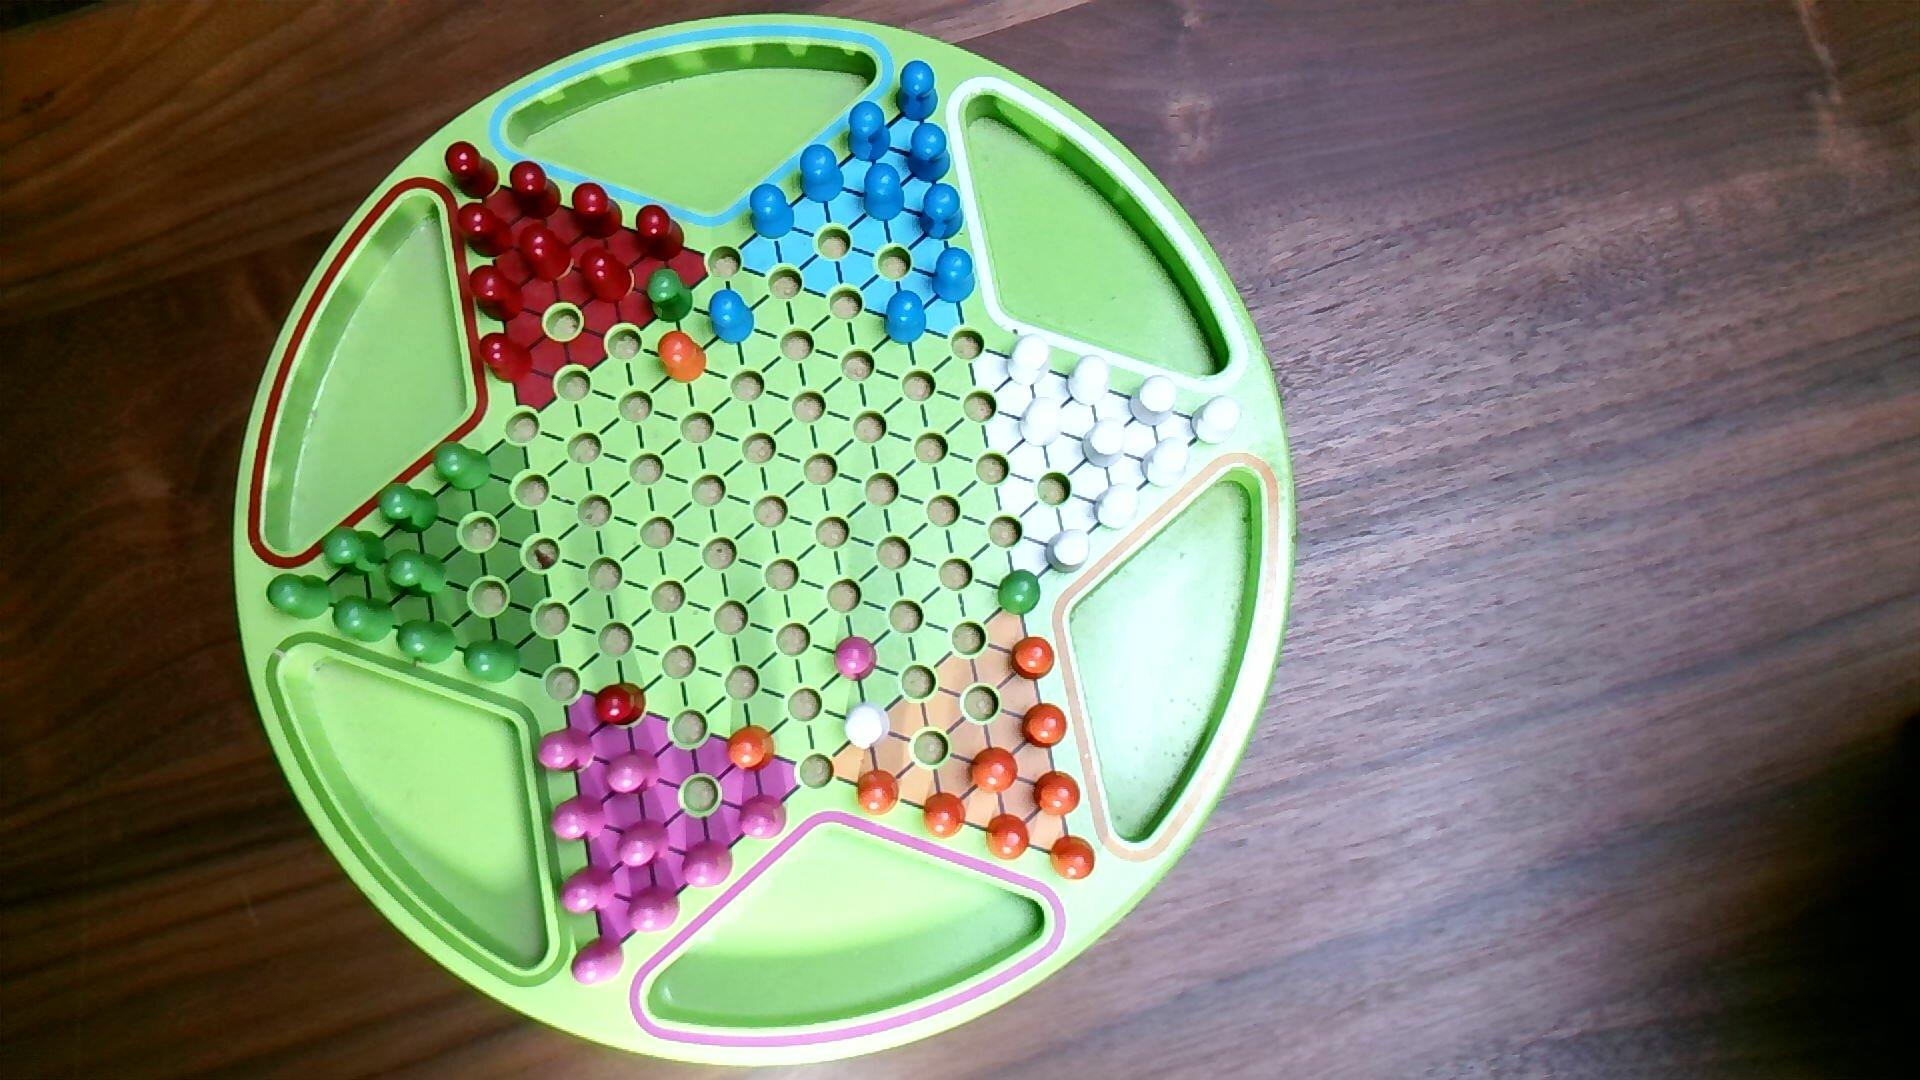B: (847, 98, 894, 165), (930, 244, 978, 309), (905, 120, 953, 185), (799, 141, 847, 207), (861, 160, 909, 225), (918, 181, 967, 244), (894, 59, 942, 124), (707, 287, 757, 348), (749, 181, 798, 243), (882, 289, 928, 347)
G: (375, 480, 442, 538), (320, 524, 389, 580), (382, 547, 451, 601), (431, 439, 495, 495), (331, 593, 397, 646), (266, 572, 335, 622), (396, 617, 462, 667), (463, 637, 526, 687), (645, 266, 696, 324), (996, 568, 1044, 618)
O: (655, 328, 709, 385), (724, 724, 778, 775), (967, 745, 1021, 796), (1033, 767, 1083, 820), (1048, 833, 1098, 884), (920, 790, 969, 841), (1021, 702, 1069, 752), (1009, 634, 1058, 684), (985, 812, 1033, 864), (856, 767, 902, 819)
R: (465, 262, 527, 326), (454, 200, 516, 261), (517, 222, 575, 285), (578, 244, 636, 306), (477, 330, 537, 386), (444, 141, 501, 200), (510, 160, 564, 222), (571, 182, 625, 243), (636, 203, 687, 265), (593, 680, 647, 731)
R2: (549, 791, 609, 847), (559, 864, 618, 916), (535, 725, 597, 775), (616, 818, 673, 872), (604, 746, 663, 798), (680, 837, 736, 891), (571, 934, 626, 986), (626, 884, 683, 935), (737, 793, 789, 843), (833, 634, 880, 684)
W: (1189, 393, 1245, 448), (1139, 435, 1193, 492), (1127, 372, 1180, 429), (1015, 394, 1068, 450), (1092, 480, 1145, 534), (1064, 353, 1114, 410), (843, 700, 894, 754), (1006, 331, 1054, 389), (1080, 417, 1129, 469), (1044, 527, 1095, 578)
